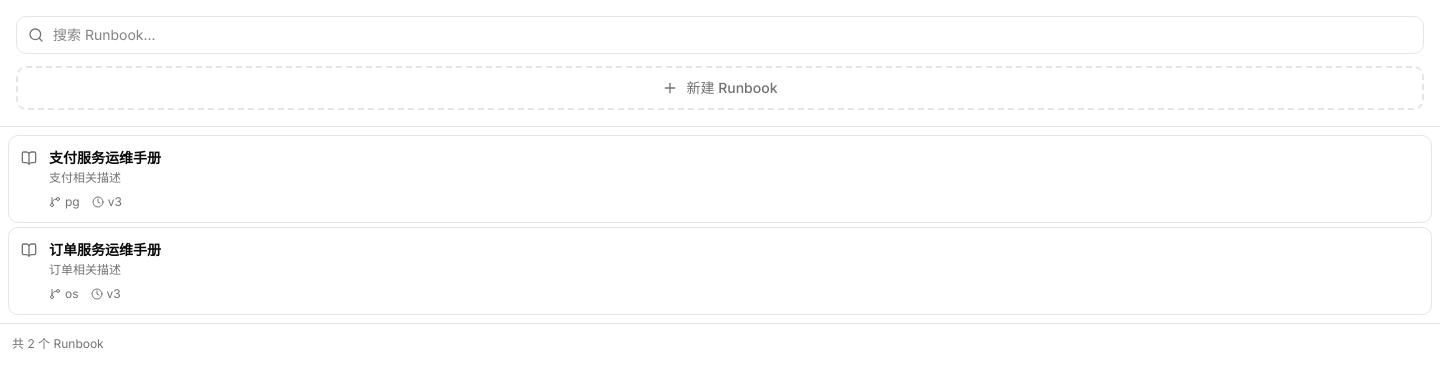
Test case: RunbookList › filters runbooks by name
Type "支付" into the field with placeholder "搜索 Runbook..." at x=720, y=35, box [16,16,1424,54]
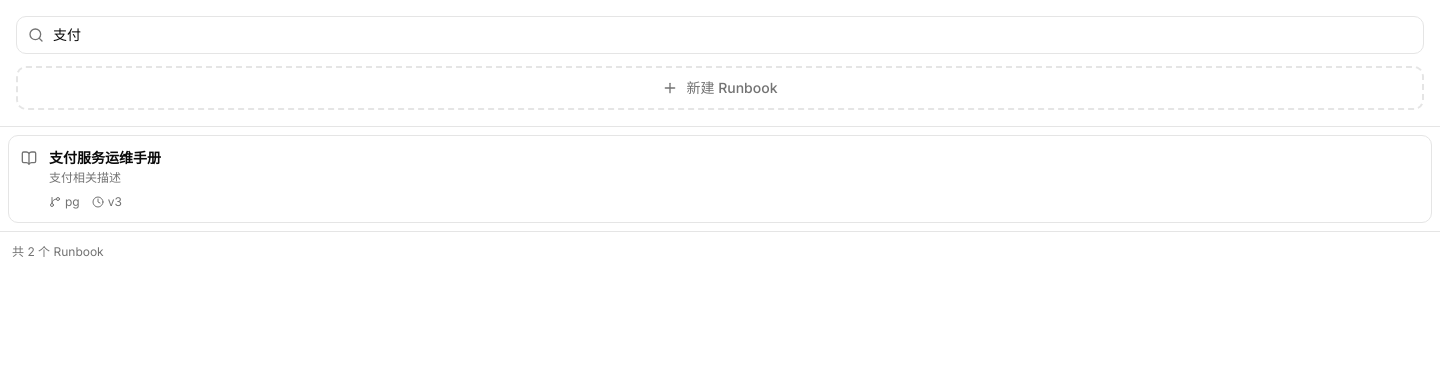
Expected: the heading "支付服务运维手册" is shown, [49,149,161,166]
Expected: the button "订单服务运维手册" is gone
